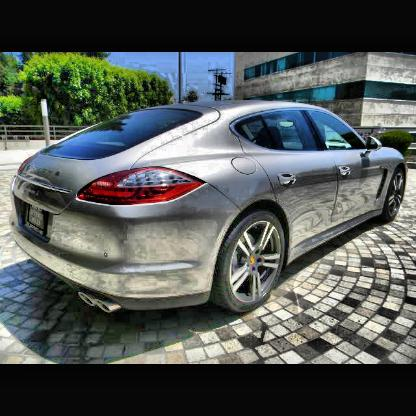Porsche Panamera Sedan 2012: (14, 98, 409, 314)
